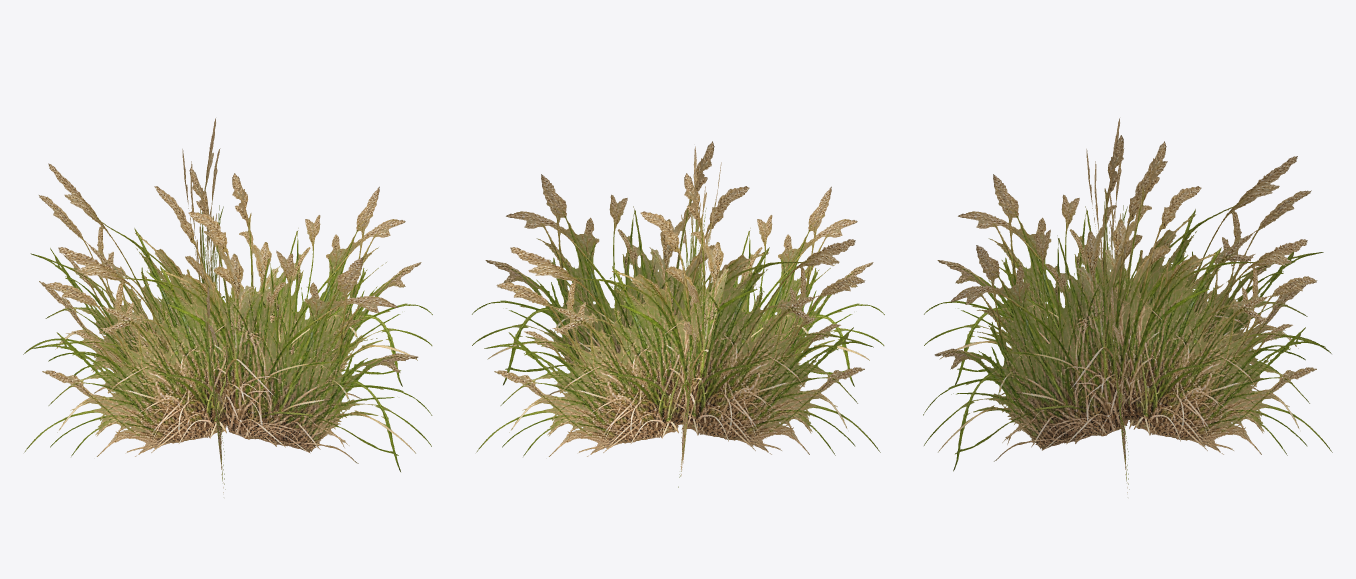
File: upland-tuft.glb
3 views of the same model, side by side, from view 1: azimuth 30°, elevation 25°; view 2: azimuth 150°, elevation 25°; view 3: azimuth 270°, elevation 25° (orthographic).
Parts seen in each view (by area): view 1: upland-tuft; view 2: upland-tuft; view 3: upland-tuft.
Boxes of the visible parts, box(x1,y1,x2,y2) form: upland-tuft: box(23, 118, 432, 492); upland-tuft: box(472, 141, 884, 487); upland-tuft: box(923, 118, 1332, 492).
Bounding box in the file's own units: 1.35 × 1.05 × 1.17.
1 material, 1 textured.
